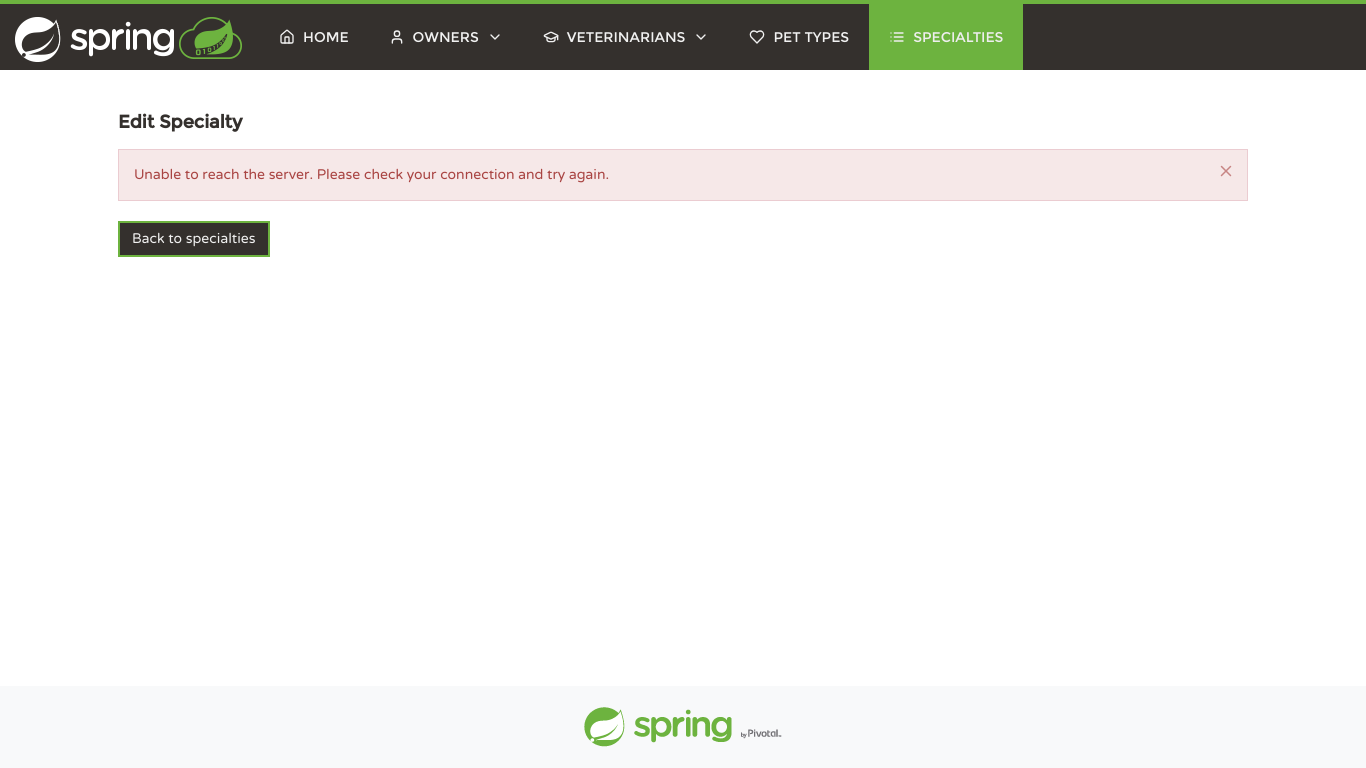
SpecialtyEditPage › surfaces a network error and retries on dismiss
expect the message shows "Unable to reach the server": met, box [134,167,609,183]
Click the button named "dismiss error": (1226, 171) [1213,158,1239,184]
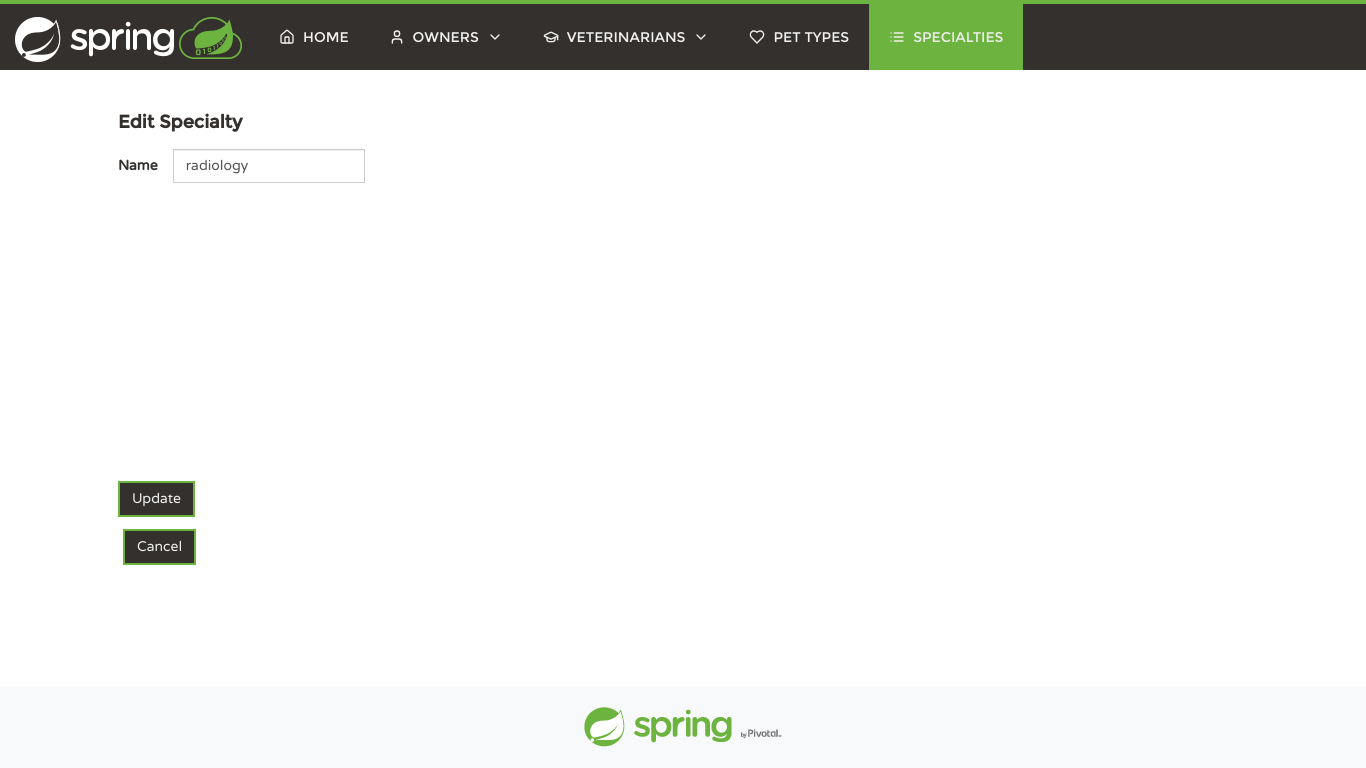
expect the field labelled "Name" holds "radiology": met, box [173,149,365,183]
expect the message "Unable to reach the server. Please check your connection and try again." is gone: met
